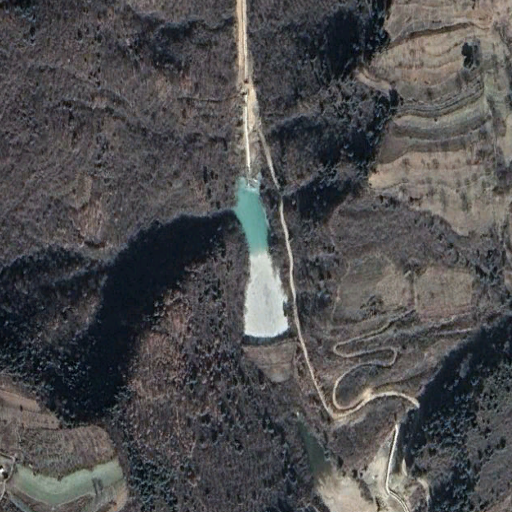tp: (233, 177, 297, 383)
